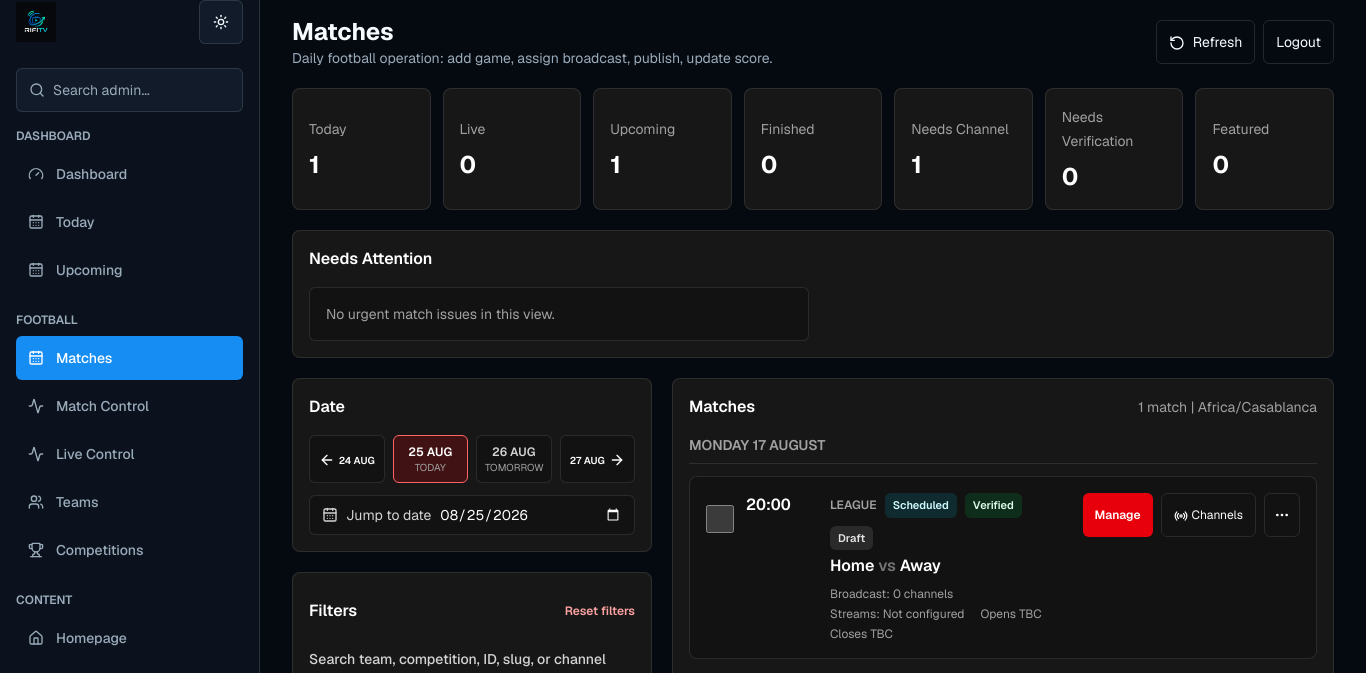
Test case: AdminClient › keeps delete validation inside the confirmation modal
The width and height of the screenshot is (1366, 673).
Expected: the 1st heading "Matches" is shown, [292,16,394,47]
Click the button named "More match actions" at (1282, 515), box [1264,493,1300,537]
(page scrolled)
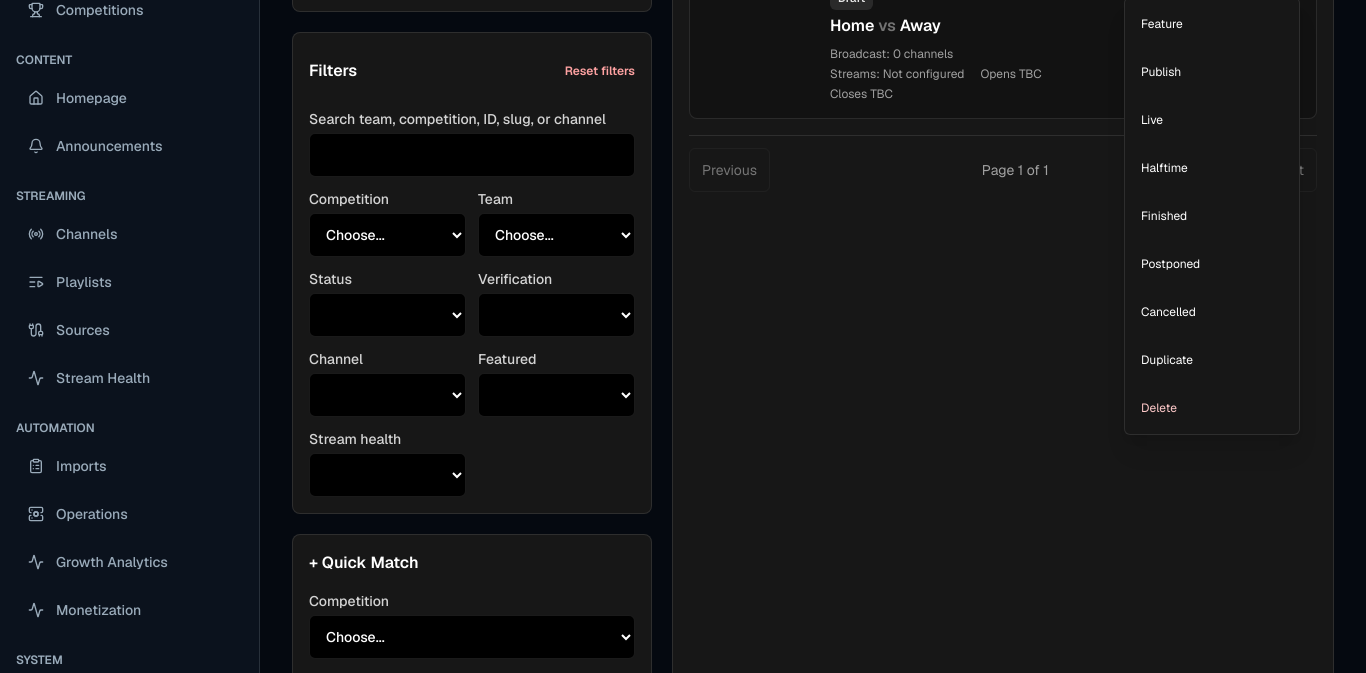
Click the button "Delete" at (1212, 408), box [1129,386,1295,430]
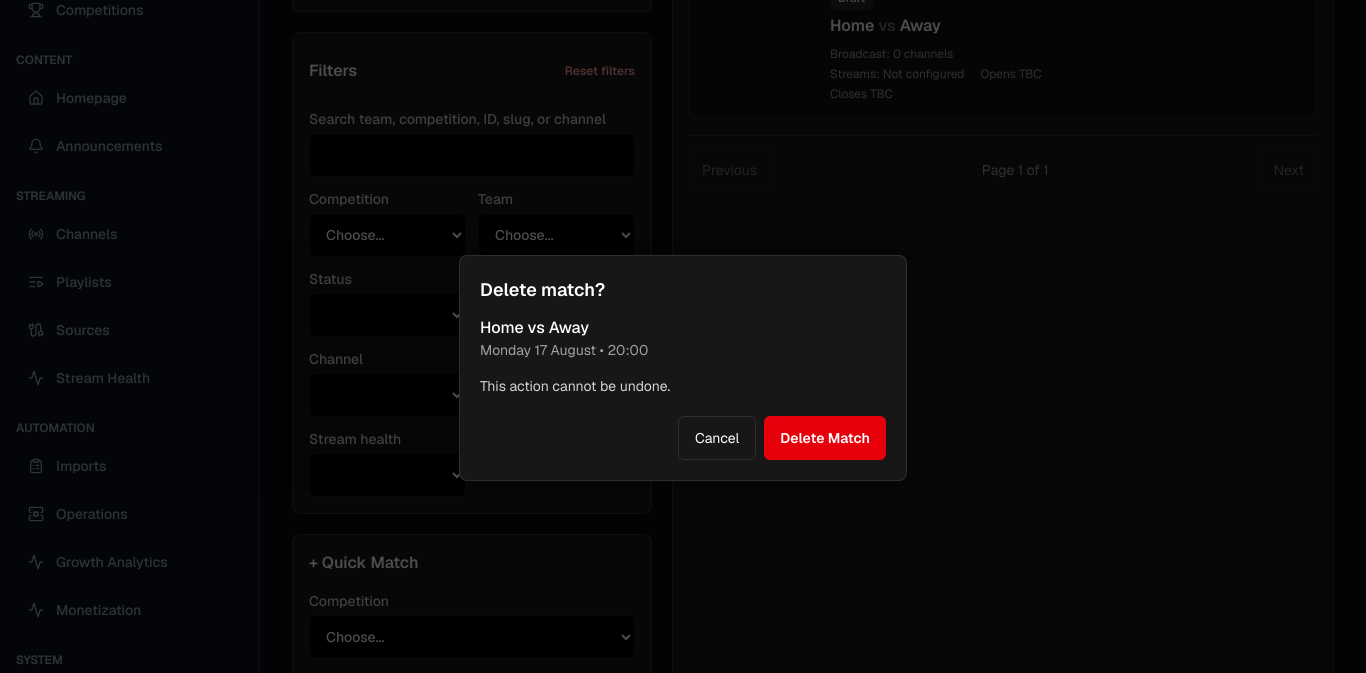
Click the button "Delete Match" at (825, 438), box [764,416,886,460]
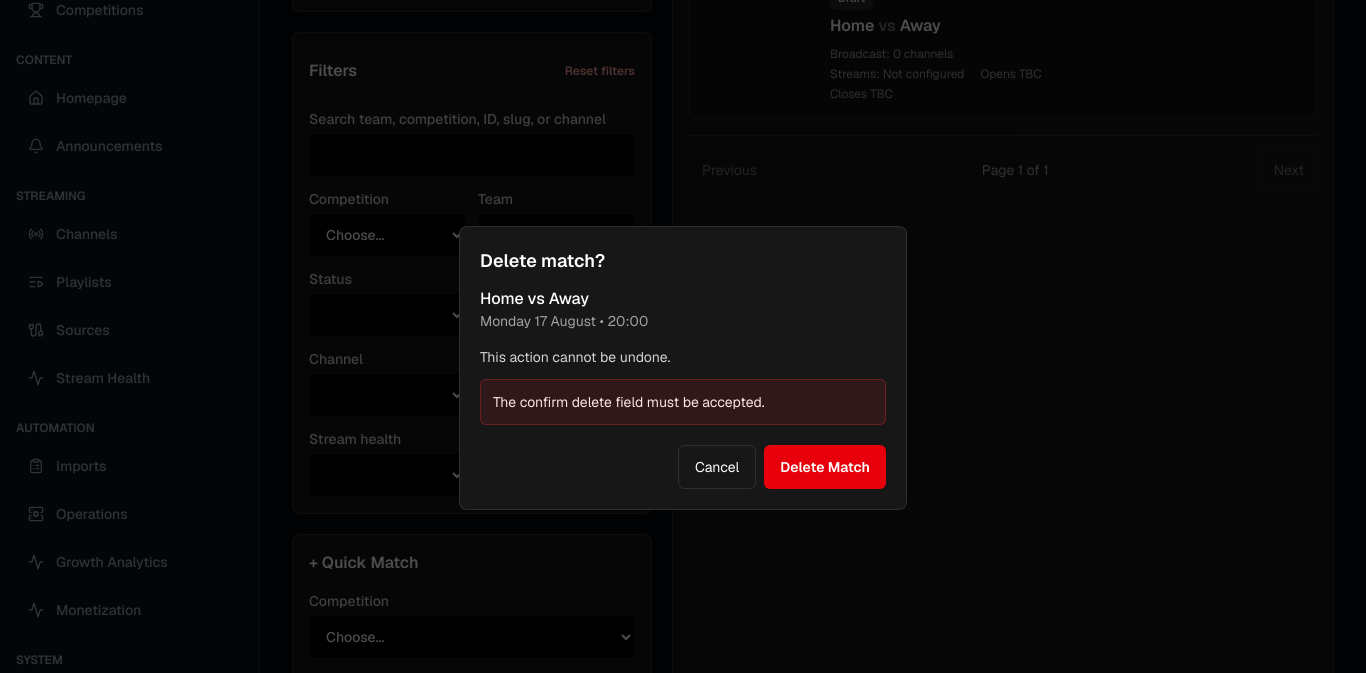
Expected: the heading "Delete match?" is shown, [480,249,605,272]
Expected: the message reads "The confirm delete field must be accepted.", [493,393,765,411]
